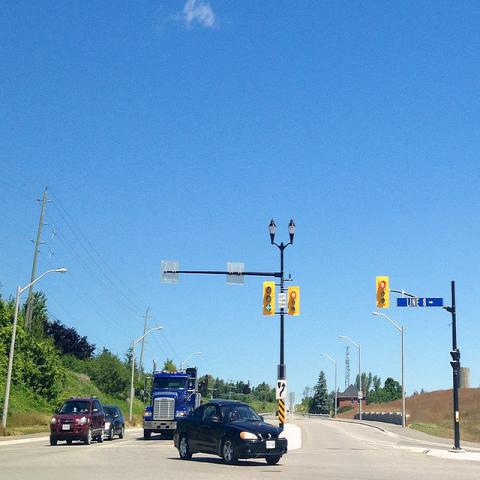car: (173, 401, 288, 464), (50, 396, 106, 446), (102, 404, 126, 442)
truck: (142, 360, 202, 430)
